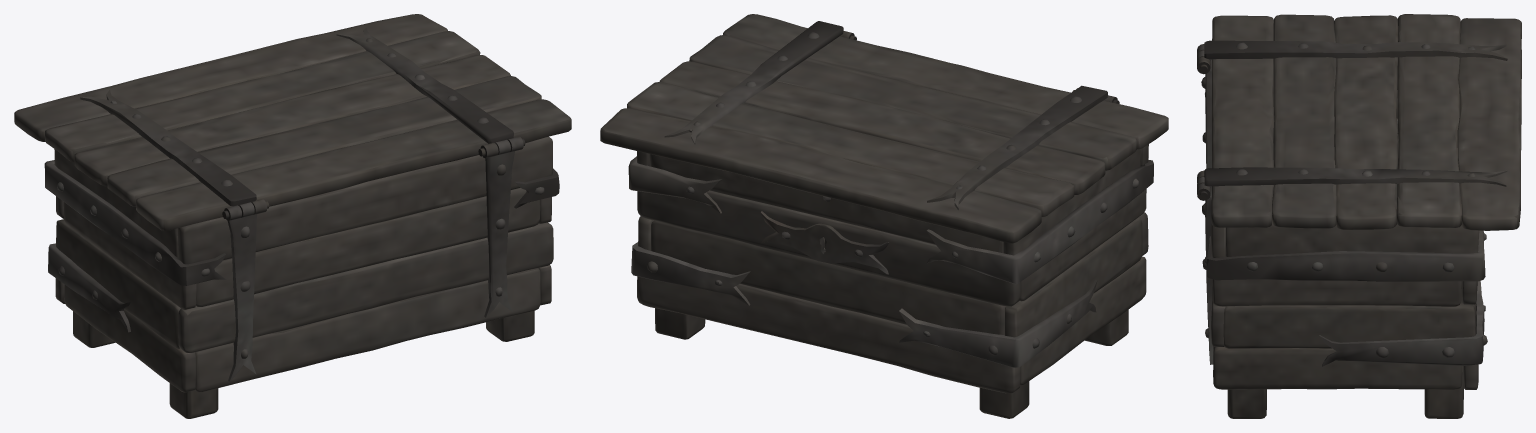
File: Chest_02.fbx
3 views of the same model, side by side, from view 1: azimuth 30°, elevation 25°; view 2: azimuth 150°, elevation 25°; view 3: azimuth 270°, elevation 25° (orthographic). The views are drawn at different scales.
Parts seen in each view (by area): view 1: Chest_02_Wood, Chest_02_Wood_Cap, Chest_02_Metall, Chest_02_Metall_Cap; view 2: Chest_02_Wood_Cap, Chest_02_Wood, Chest_02_Metall, Chest_02_Metall_Cap; view 3: Chest_02_Wood_Cap, Chest_02_Wood, Chest_02_Metall, Chest_02_Metall_Cap.
Boxes of the visible parts, left/top/right/bottom form: Chest_02_Wood: left=54, top=136, right=553, bottom=418; Chest_02_Wood_Cap: left=14, top=14, right=571, bottom=230; Chest_02_Metall: left=44, top=136, right=559, bottom=381; Chest_02_Metall_Cap: left=80, top=27, right=513, bottom=206; Chest_02_Wood_Cap: left=600, top=14, right=1168, bottom=243; Chest_02_Wood: left=637, top=144, right=1148, bottom=418; Chest_02_Metall: left=628, top=31, right=1153, bottom=367; Chest_02_Metall_Cap: left=664, top=21, right=1107, bottom=209; Chest_02_Wood_Cap: left=1211, top=14, right=1521, bottom=230; Chest_02_Wood: left=1211, top=87, right=1479, bottom=418; Chest_02_Metall: left=1197, top=44, right=1487, bottom=366; Chest_02_Metall_Cap: left=1204, top=40, right=1507, bottom=186.
Size of what is drawn, in the model's own units: 142 by 74.07 by 95.68.
